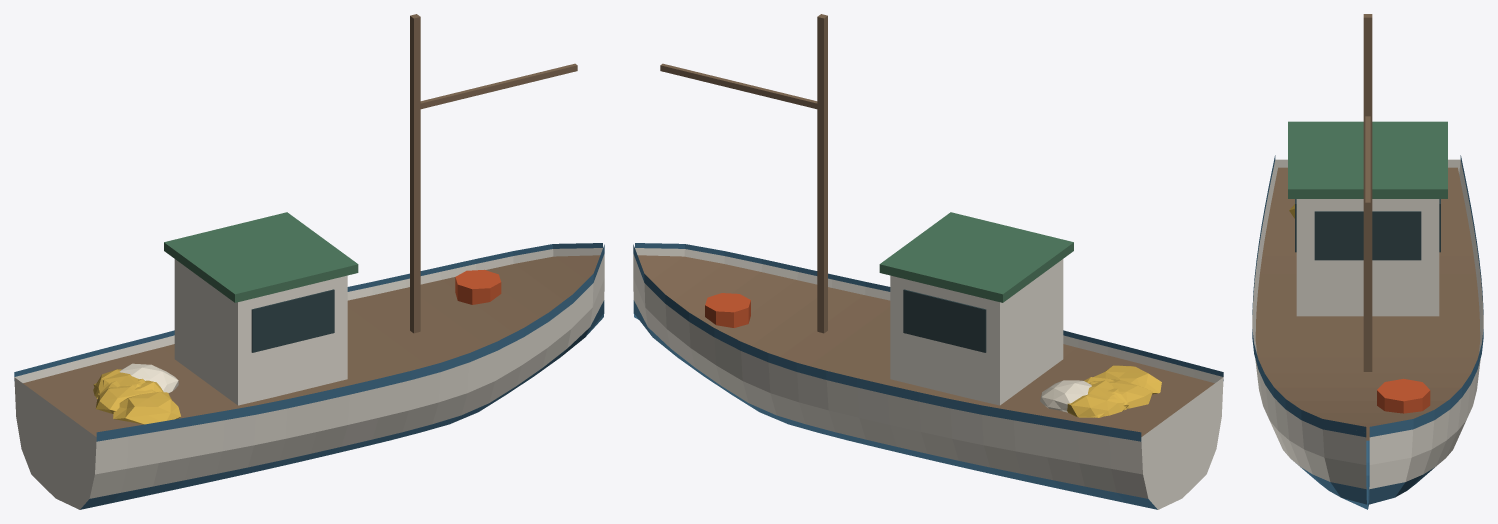
The model's file is balikci-teknesi-beyaz-mavi.glb.
3 views of the same model, side by side, from view 1: azimuth 30°, elevation 25°; view 2: azimuth 150°, elevation 25°; view 3: azimuth 270°, elevation 25° (orthographic). The views are drawn at different scales.
Visible parts, largest first — view 1: tekne_beyaz, ahsap, tekne_mavi, tekne_yesil, cam, tekne_sari, can, ip; view 2: tekne_beyaz, ahsap, tekne_mavi, tekne_yesil, cam, tekne_sari, can, ip; view 3: ahsap, tekne_beyaz, tekne_yesil, cam, tekne_mavi, can.
Boxes of the visible parts, left/top/right/bottom form: tekne_beyaz: left=14, top=248, right=604, bottom=509; ahsap: left=23, top=14, right=600, bottom=436; tekne_mavi: left=14, top=243, right=604, bottom=509; tekne_yesil: left=164, top=212, right=358, bottom=302; cam: left=251, top=289, right=334, bottom=352; tekne_sari: left=93, top=369, right=180, bottom=424; can: left=455, top=269, right=501, bottom=304; ip: left=119, top=363, right=178, bottom=393; tekne_beyaz: left=633, top=248, right=1223, bottom=509; ahsap: left=637, top=14, right=1214, bottom=436; tekne_mavi: left=633, top=243, right=1223, bottom=509; tekne_yesil: left=879, top=212, right=1073, bottom=302; cam: left=903, top=289, right=986, bottom=352; tekne_sari: left=1067, top=365, right=1161, bottom=417; can: left=705, top=293, right=750, bottom=327; ip: left=1040, top=380, right=1091, bottom=412; ahsap: left=1255, top=14, right=1480, bottom=440; tekne_beyaz: left=1252, top=159, right=1483, bottom=489; tekne_yesil: left=1288, top=121, right=1447, bottom=198; cam: left=1295, top=199, right=1440, bottom=260; tekne_mavi: left=1252, top=155, right=1483, bottom=509; can: left=1377, top=378, right=1430, bottom=413.
Size of the model in its own units: 8 by 5.5 by 2.6.
